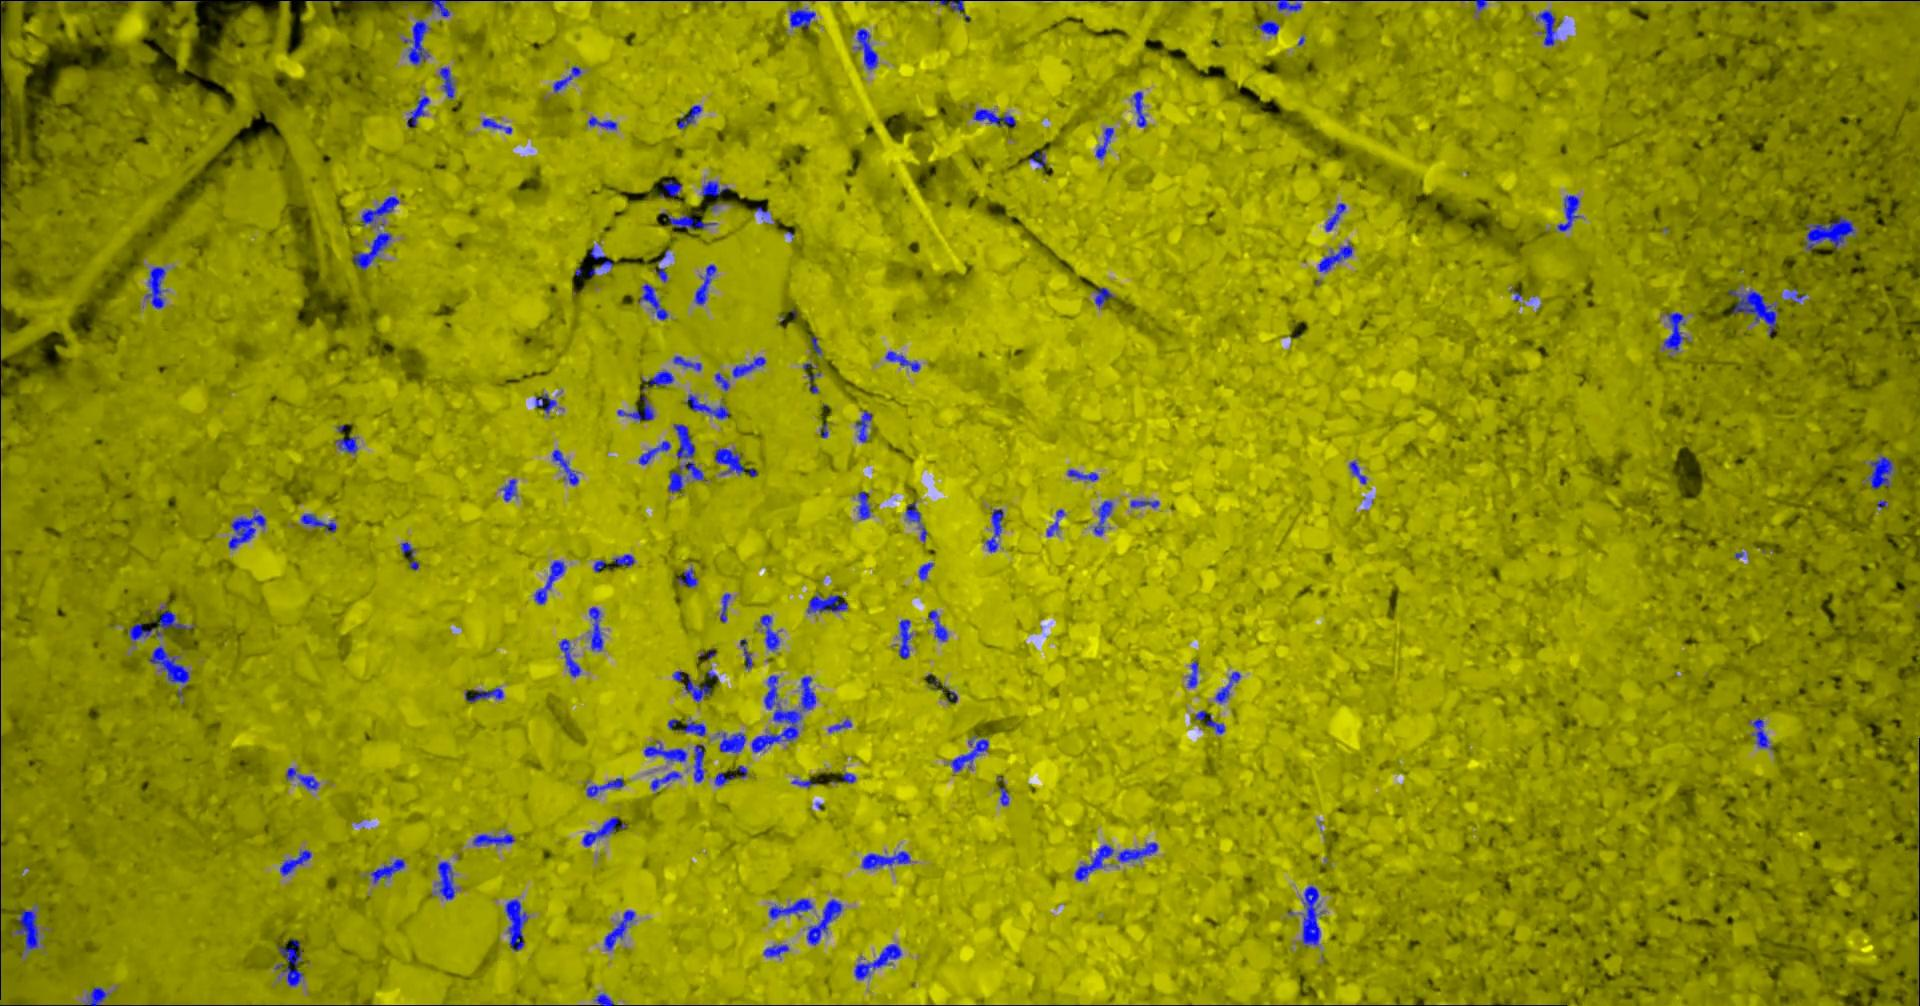ant: (667, 423, 707, 492), (1727, 290, 1777, 335), (1804, 215, 1854, 250), (855, 942, 902, 979), (353, 0, 450, 17), (806, 899, 842, 944), (149, 647, 189, 683), (352, 232, 391, 269), (1074, 843, 1112, 880), (229, 511, 265, 547), (950, 735, 988, 771), (274, 937, 302, 986), (582, 815, 625, 846), (535, 560, 564, 605), (152, 606, 193, 636), (603, 909, 634, 950), (714, 448, 757, 476), (1302, 885, 1322, 944), (403, 19, 429, 64), (684, 392, 729, 419), (672, 671, 710, 701), (504, 899, 527, 950), (361, 196, 397, 225), (637, 283, 667, 319), (1318, 243, 1352, 271), (551, 448, 578, 484), (616, 395, 653, 420), (768, 898, 811, 920), (15, 909, 38, 950), (557, 638, 580, 677), (856, 28, 877, 69), (643, 741, 686, 761), (370, 857, 404, 883), (861, 851, 909, 869), (145, 265, 165, 307), (984, 508, 1003, 553), (279, 848, 311, 875), (971, 108, 1015, 127), (695, 264, 715, 304), (1117, 842, 1157, 862), (637, 439, 670, 464), (1557, 194, 1578, 231), (1663, 312, 1684, 351), (806, 593, 847, 612), (1868, 456, 1892, 488), (1215, 671, 1239, 702), (552, 65, 580, 91), (667, 213, 715, 229), (759, 614, 778, 652), (585, 777, 623, 796), (436, 861, 455, 899), (731, 356, 764, 377), (1750, 716, 1771, 749), (284, 767, 317, 789), (1535, 10, 1556, 44), (406, 97, 429, 127), (885, 351, 919, 371), (1194, 710, 1224, 733), (300, 513, 335, 532), (1093, 500, 1112, 535), (927, 610, 947, 641), (676, 104, 701, 128), (588, 607, 602, 650), (717, 730, 745, 752), (463, 687, 503, 702), (1324, 202, 1345, 231), (650, 771, 681, 790), (789, 8, 815, 29), (1095, 127, 1112, 159), (472, 833, 514, 846), (641, 370, 673, 386), (855, 410, 871, 442), (898, 619, 910, 658), (439, 66, 455, 98), (1131, 91, 1145, 126), (1046, 509, 1064, 536), (400, 542, 418, 569), (589, 246, 612, 267), (673, 354, 701, 371), (481, 118, 510, 133), (535, 392, 556, 413), (930, 0, 963, 13), (676, 567, 696, 587), (587, 116, 616, 130), (676, 721, 705, 735), (701, 180, 728, 196), (1349, 460, 1366, 483), (85, 987, 108, 1005), (128, 622, 152, 639), (693, 744, 703, 782), (335, 436, 357, 453), (739, 639, 752, 668), (1067, 469, 1098, 480), (659, 180, 681, 197), (1095, 287, 1112, 306), (762, 944, 789, 956), (827, 718, 851, 732), (719, 593, 730, 622), (502, 478, 516, 500), (858, 492, 870, 520), (1256, 20, 1277, 34), (905, 500, 919, 522), (1027, 151, 1045, 168), (1276, 0, 1302, 11), (612, 554, 634, 567), (714, 372, 729, 390), (918, 561, 933, 579), (1187, 661, 1197, 687), (1785, 288, 1804, 302), (714, 772, 734, 785), (593, 993, 615, 1005), (791, 779, 817, 788), (1130, 499, 1159, 507), (593, 559, 610, 572), (810, 337, 822, 354), (999, 786, 1008, 805), (654, 267, 665, 281), (841, 772, 855, 782)
